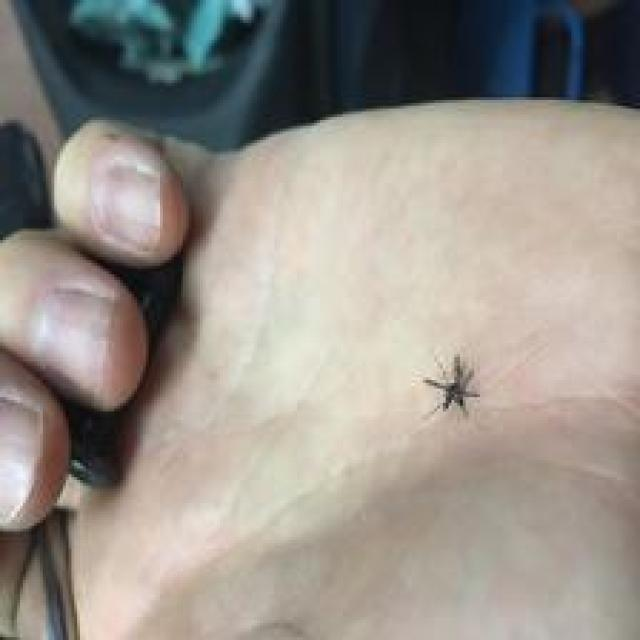Aedes albopictus: (423, 353, 480, 416)
